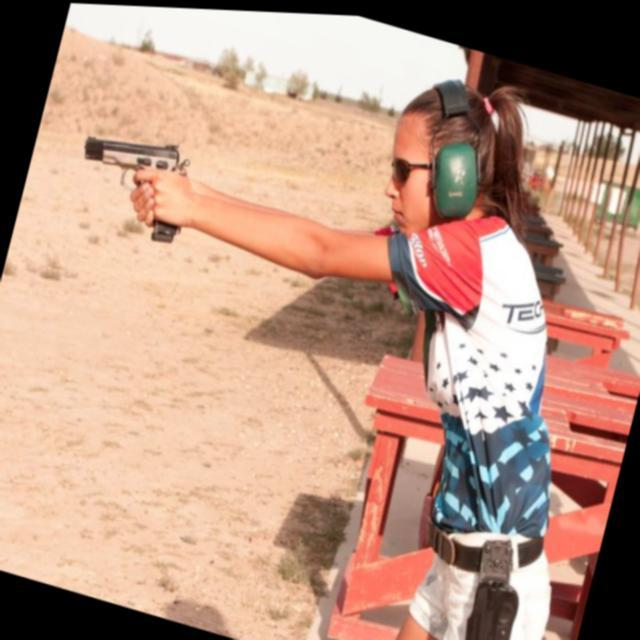weapon: (66, 114, 200, 246)
